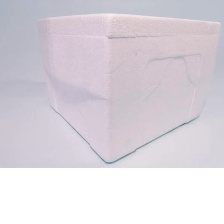foam_box: (36, 9, 223, 166)
